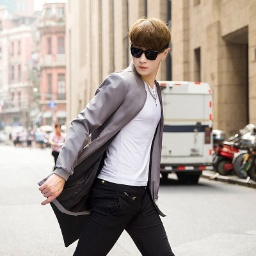face: (129, 18, 173, 81)
